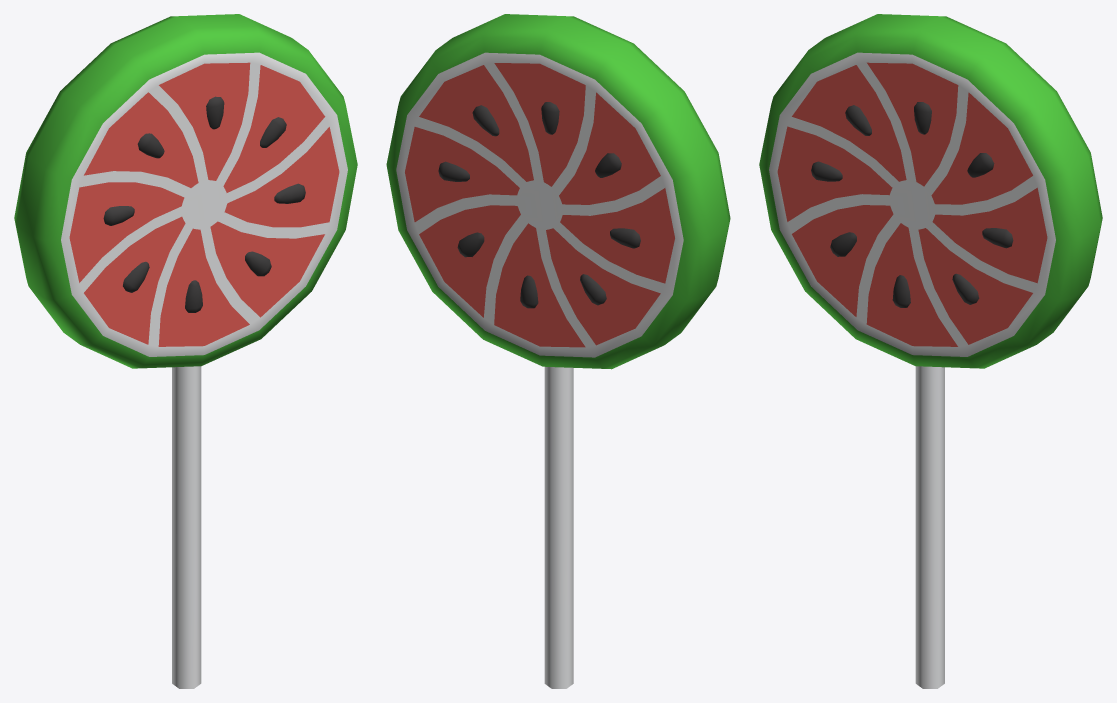
Rendered from lollipop_021.glb.
3 views of the same model, side by side, from view 1: azimuth 30°, elevation 25°; view 2: azimuth 150°, elevation 25°; view 3: azimuth 330°, elevation 25° (orthographic).
Parts seen in each view (by area): view 1: lollipop_021; view 2: lollipop_021; view 3: lollipop_021.
Boxes of the visible parts, x1,y1,x2,y2 form: lollipop_021: (14, 14, 357, 688); lollipop_021: (386, 14, 730, 688); lollipop_021: (759, 14, 1102, 688).
Size of the model in its own units: 2.88 by 5.63 by 0.6702.
1 material, 1 textured.
